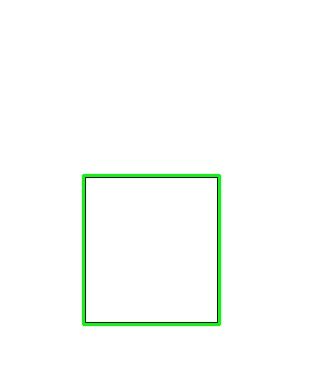line_segment: (82, 174, 221, 326)
